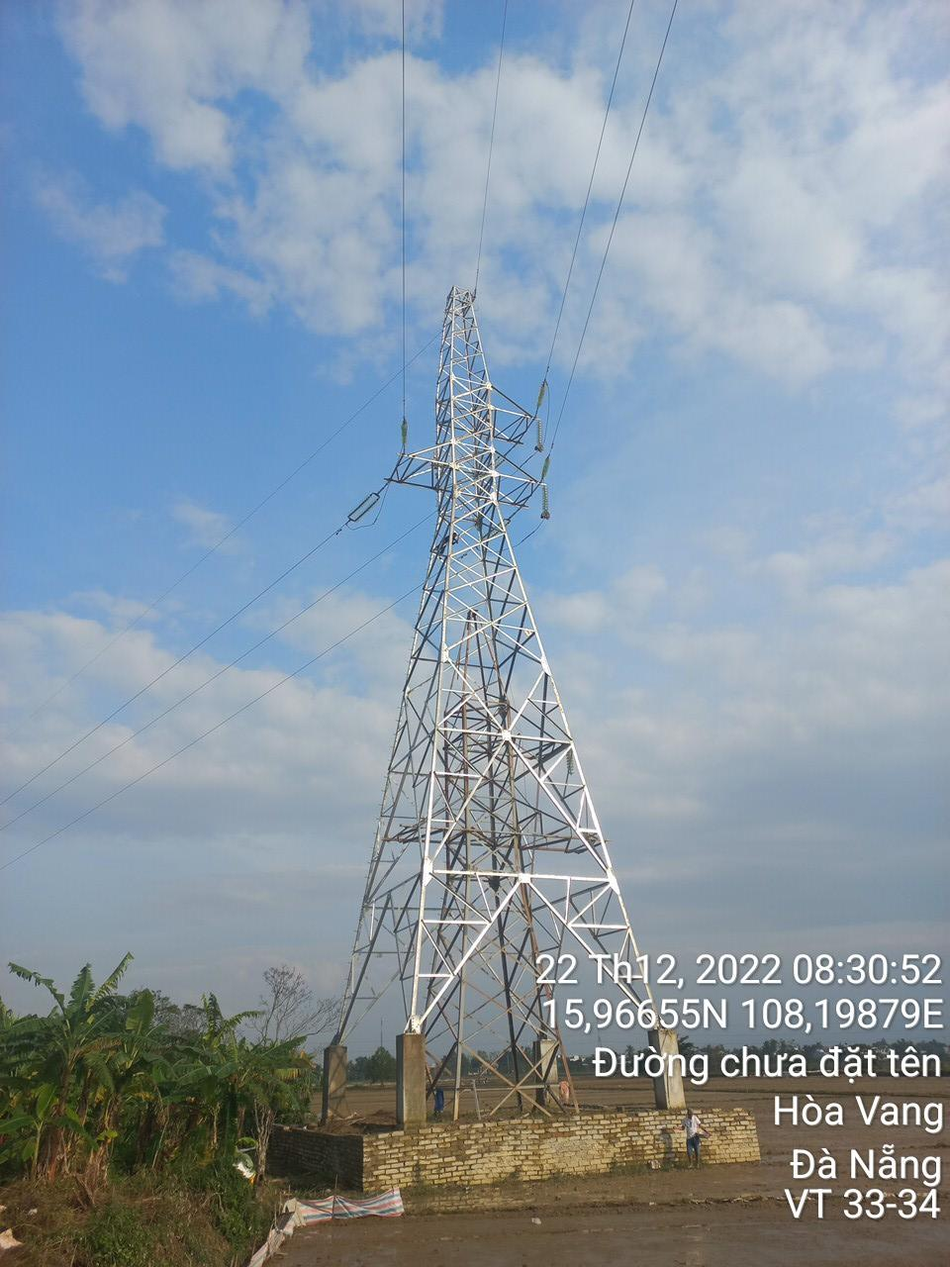power_tower: (339, 270, 645, 960)
